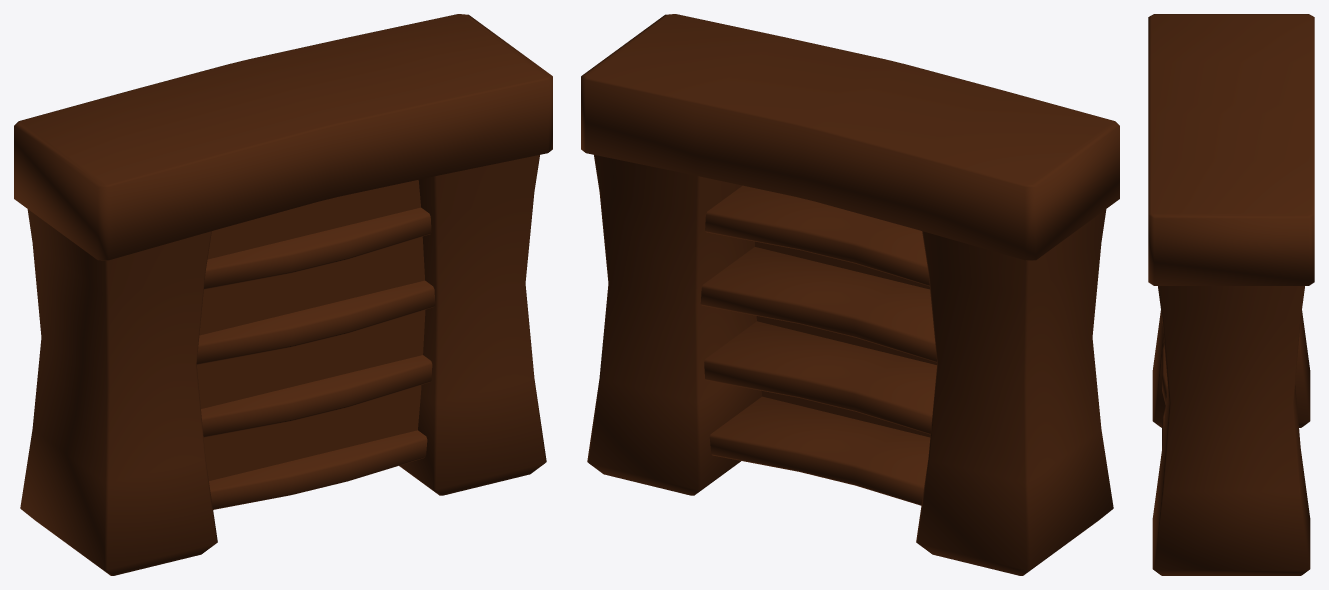
Rendered from SM_shelf.FBX.
3 views of the same model, side by side, from view 1: azimuth 30°, elevation 25°; view 2: azimuth 150°, elevation 25°; view 3: azimuth 270°, elevation 25° (orthographic). The views are drawn at different scales.
Visible parts, largest first — view 1: shelf; view 2: shelf; view 3: shelf.
Part boxes in pixels (<box>): shelf: <box>14,14,552,575</box>; shelf: <box>581,14,1119,575</box>; shelf: <box>1148,14,1314,575</box>.
Size of the model in its own units: 40.14 by 34.01 by 13.79.
